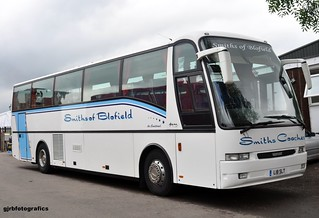bus: (11, 32, 307, 195)
